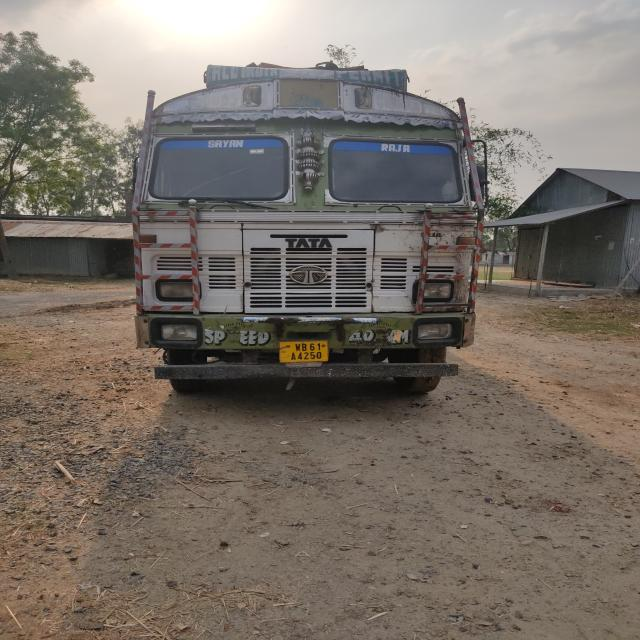Truck: (80, 57, 510, 393)
